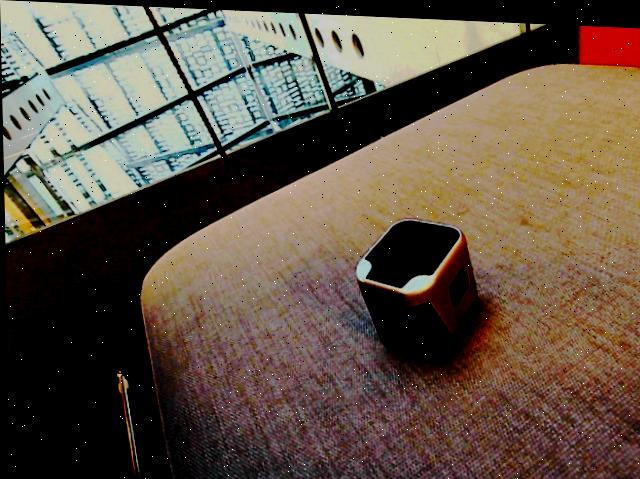adapter: (353, 212, 478, 357)
